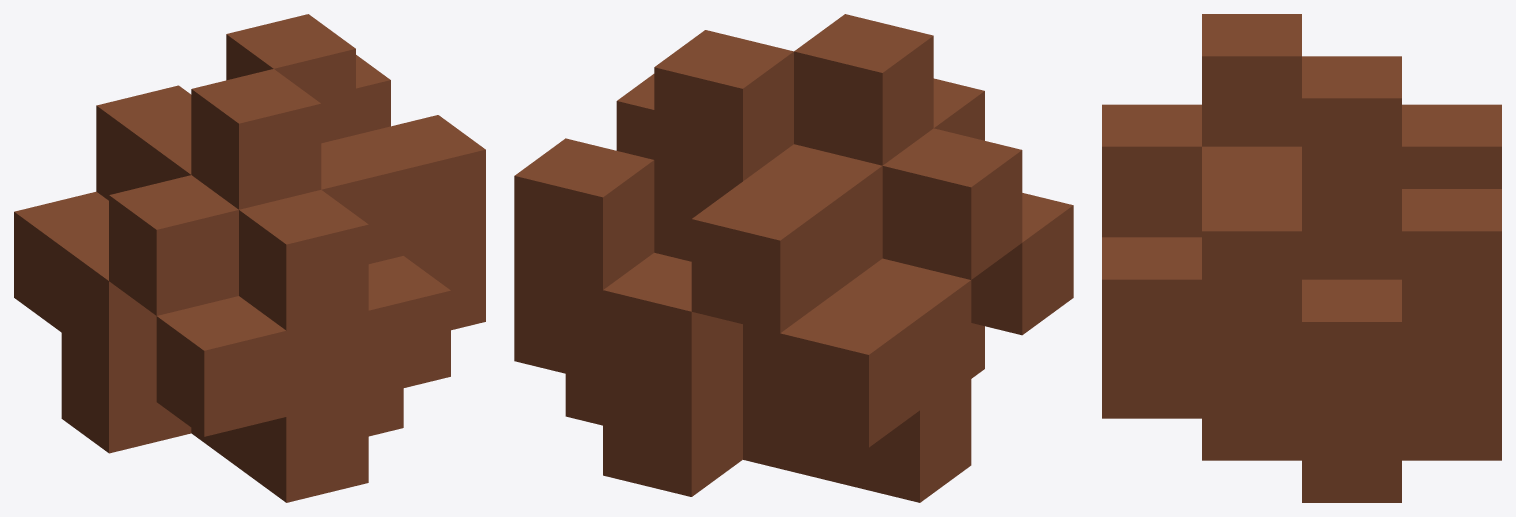
Rendered from bush_2.obj.
3 views of the same model, side by side, from view 1: azimuth 30°, elevation 25°; view 2: azimuth 150°, elevation 25°; view 3: azimuth 270°, elevation 25° (orthographic). The views are drawn at different scales.
Size of the model in its own units: 0.4 by 0.4 by 0.4.
1 material, 1 textured.
